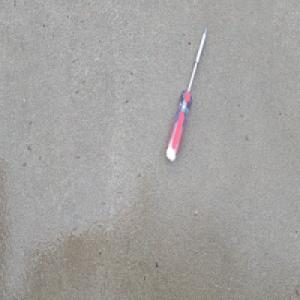Screwdriver: (165, 24, 209, 164)
